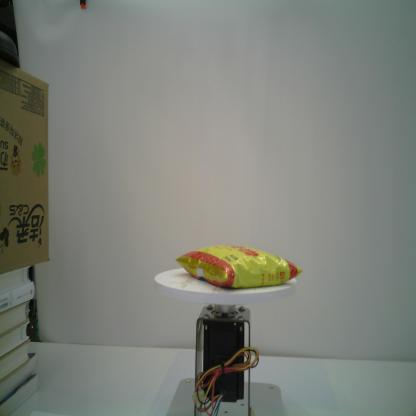Seasoner: (174, 244, 303, 290)
